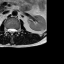CCS_normal: (10, 26, 13, 38)
LFS_normal: (16, 26, 18, 34)
LLS_normal: (13, 26, 16, 35)
RFS_normal: (4, 25, 7, 34)
RLS_normal: (7, 26, 10, 34)
